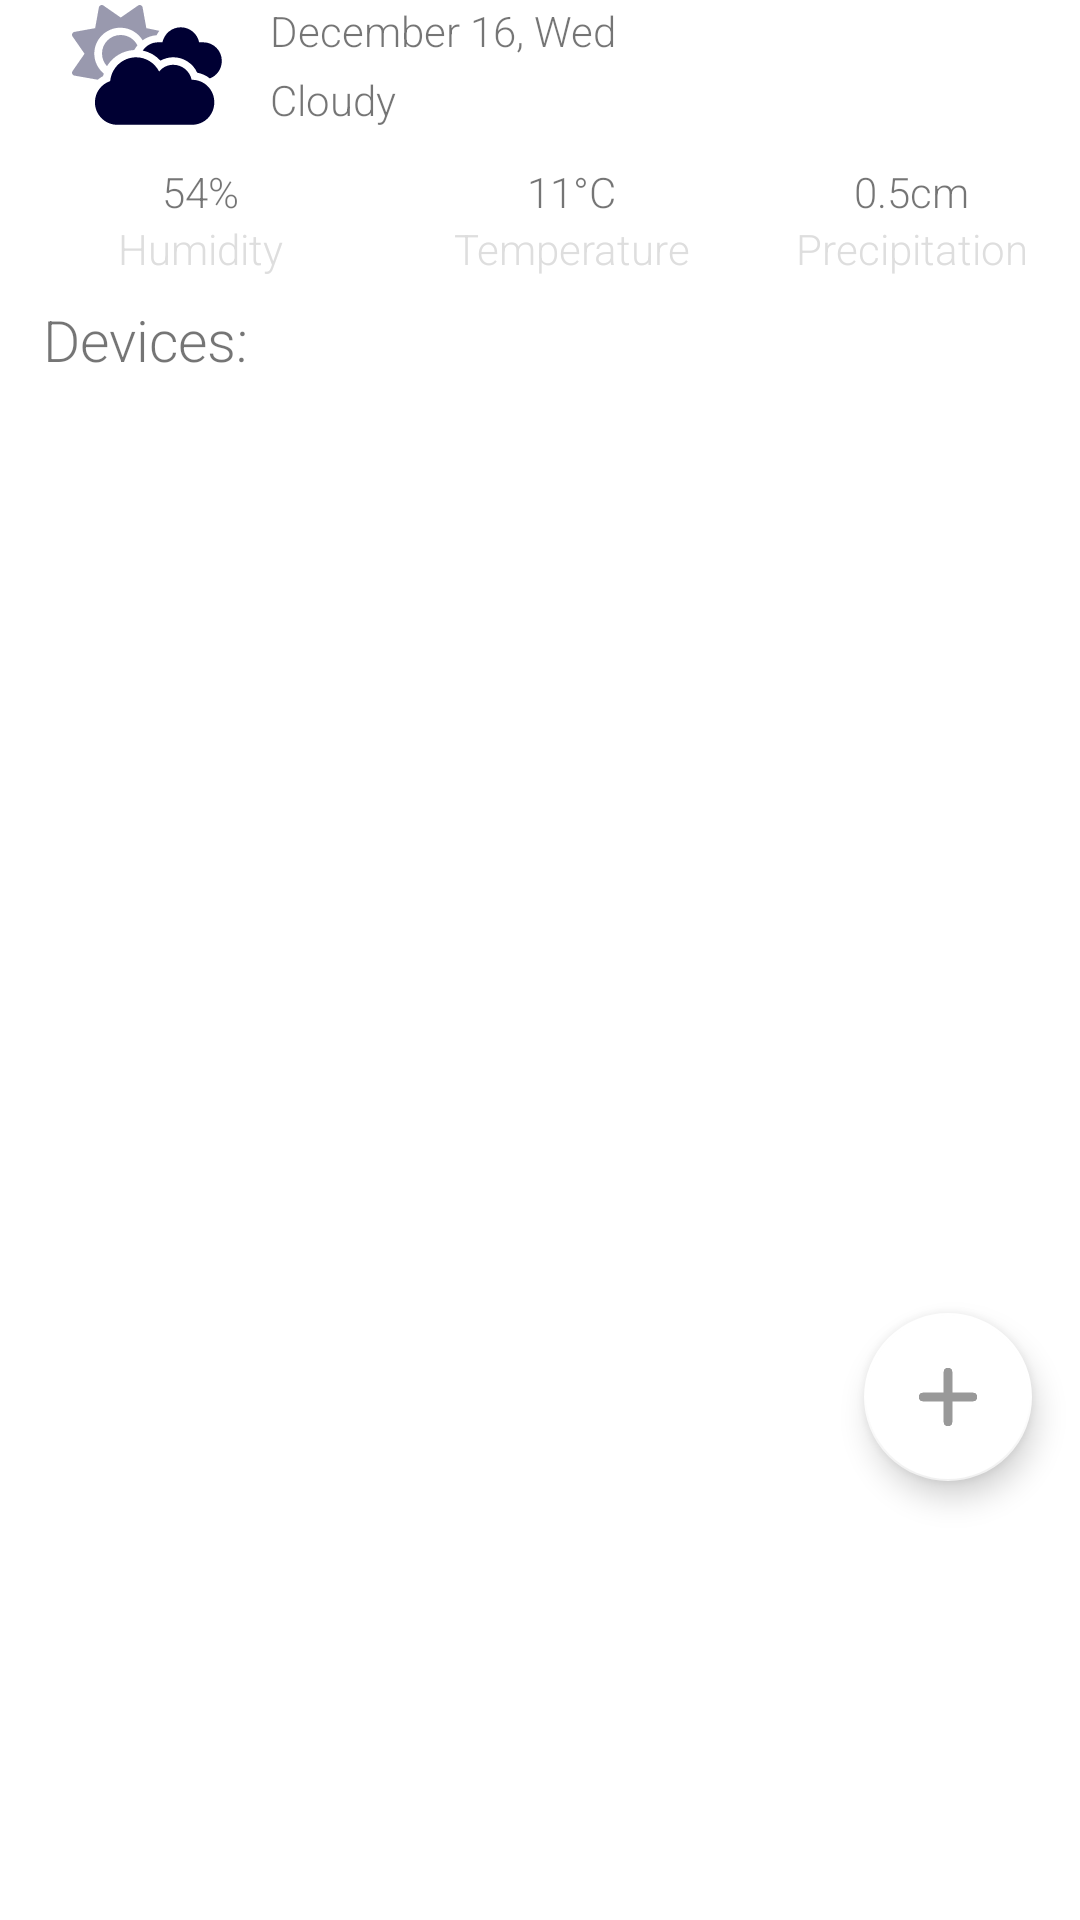

Icons on this 1080px×1920px Android screen, each with the point to tap as (x,y):
Add device: (951,1424)
clouds sun: (147,65)
